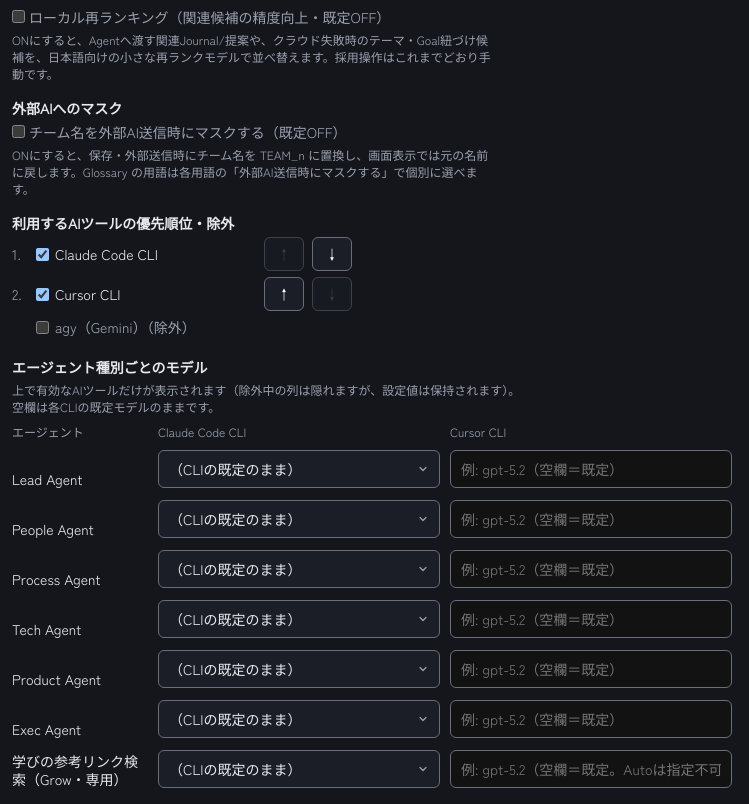
Scenario: AiToolsSettingsGroup › 学びの参考リンク検索のCursorモデルに auto を指定するとエラーを表示し保存しない
The width and height of the screenshot is (749, 804).
(page scrolled)
In the field named "学びの参考リンク検索 / Cursor CLI": (591, 769) [450,750,732,788], type "auto"
(page scrolled)
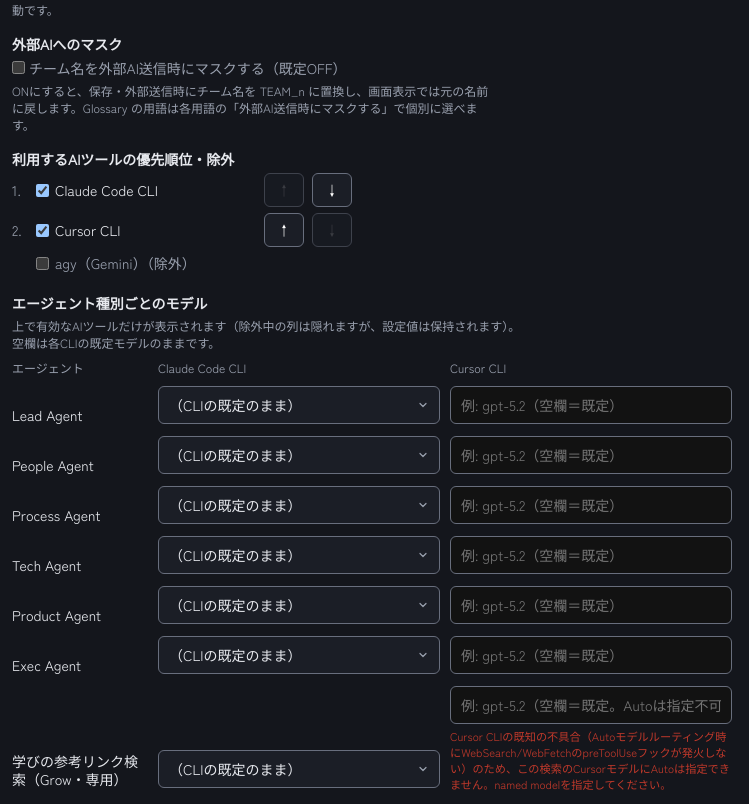
Expected: the message shows "Autoは指定できません", [450,728,730,792]
